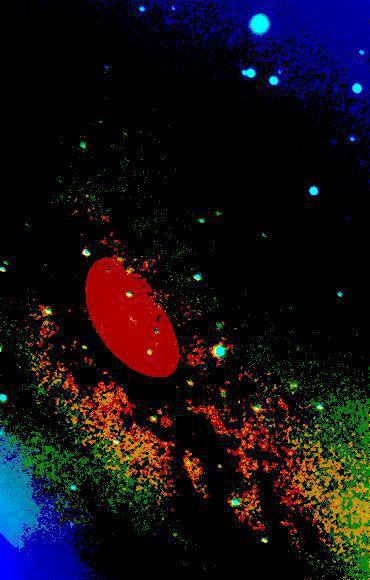star: (108, 123, 138, 153)
